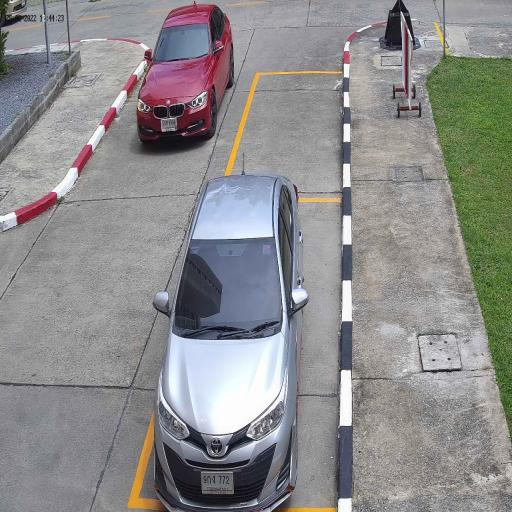car: (153, 173, 303, 512), (136, 2, 235, 144)
